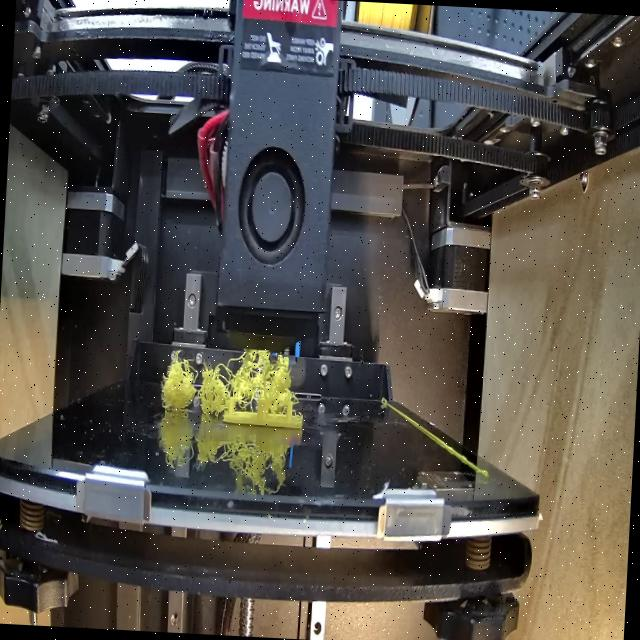spaghetti: (164, 343, 302, 410)
